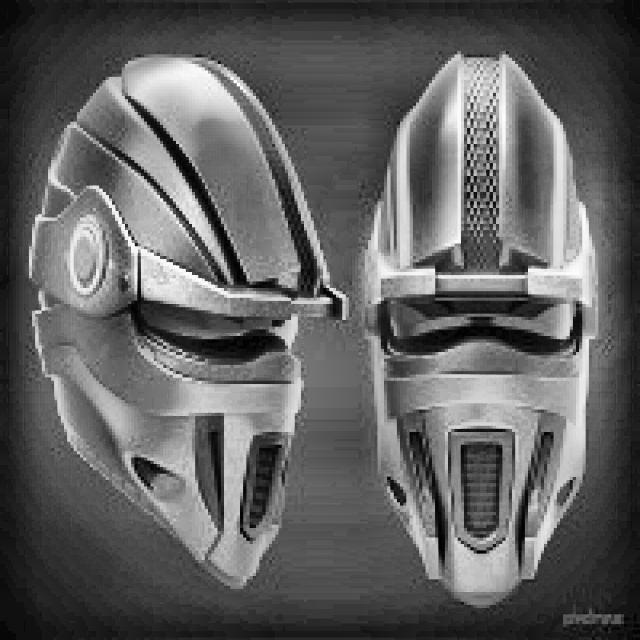Helmet: (35, 49, 347, 601), (361, 38, 612, 617)
